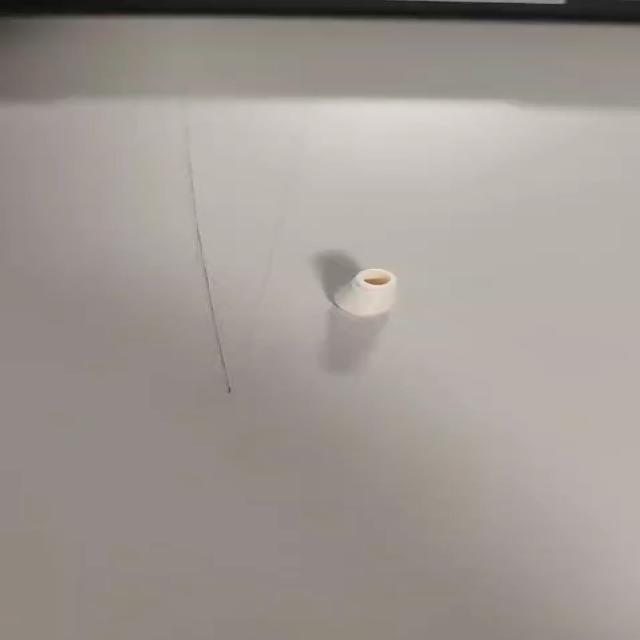Z1x1x1: (332, 266, 401, 322)
